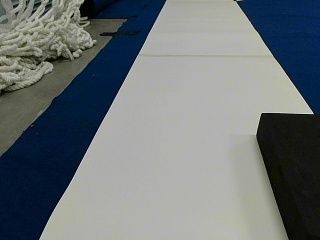block: (257, 111, 319, 239)
